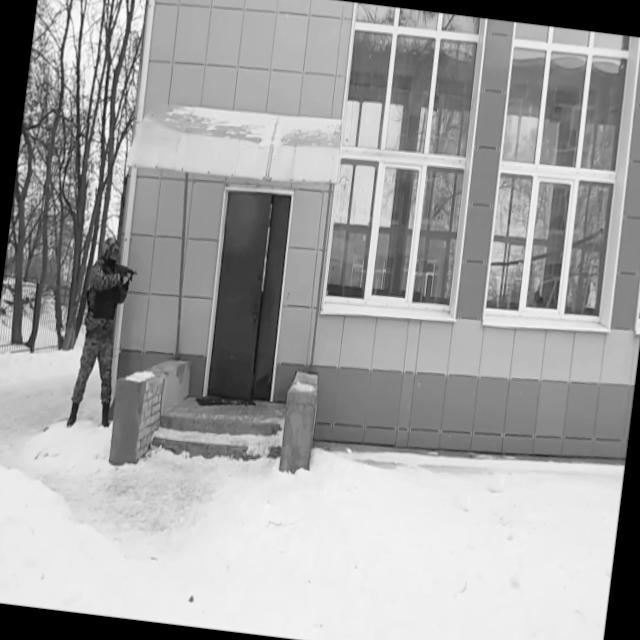gun: (110, 261, 140, 288)
person with a gun: (65, 232, 143, 434)
